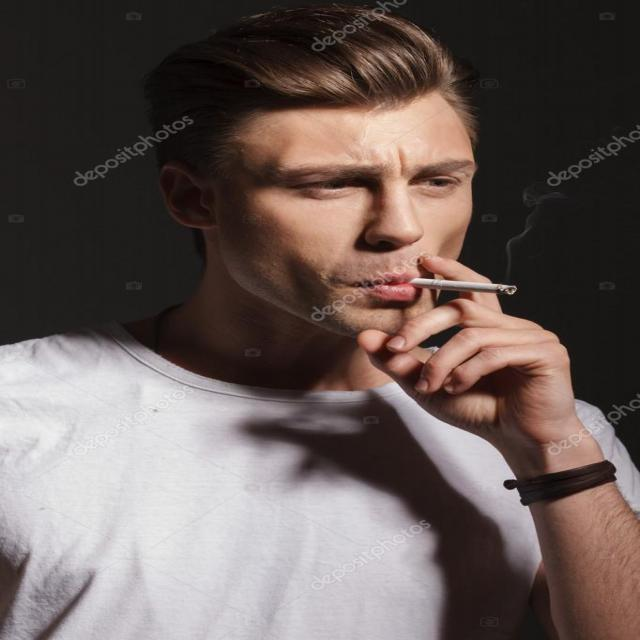smoking: (383, 228, 527, 328)
